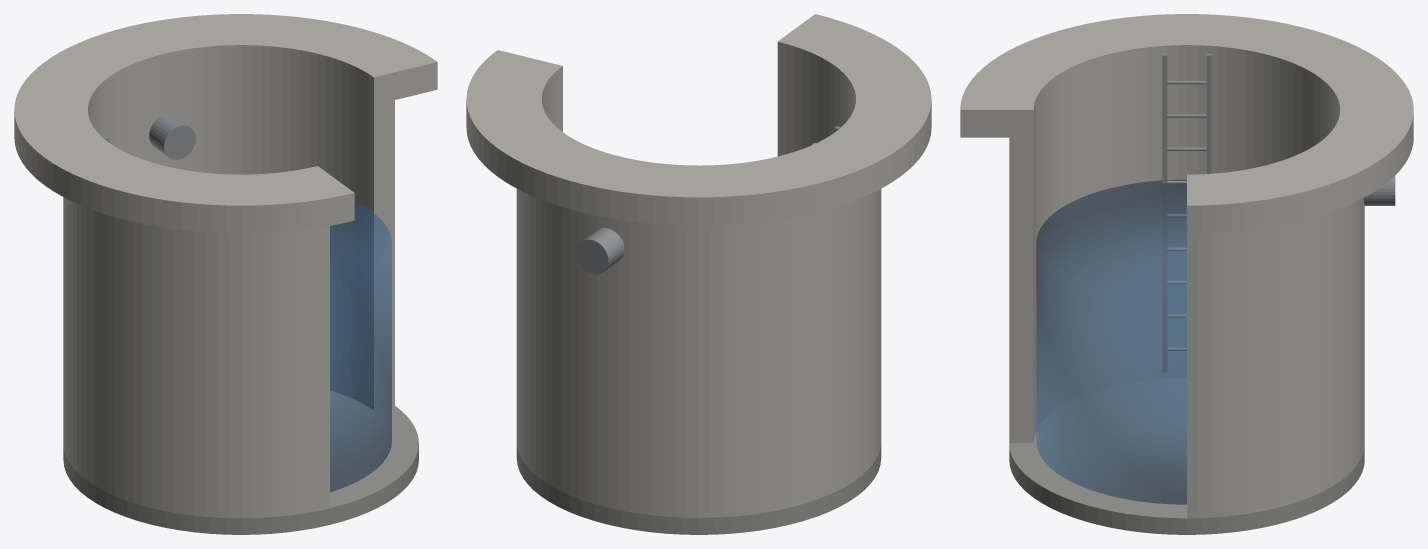
File: wet-well.glb
3 views of the same model, side by side, from view 1: azimuth 30°, elevation 25°; view 2: azimuth 150°, elevation 25°; view 3: azimuth 270°, elevation 25° (orthographic). The views are drawn at different scales.
Parts seen in each view (by area): view 1: Wall, Collar, Fluid, Floor, Inlet; view 2: Wall, Collar, Floor, Inlet; view 3: Wall, Fluid, Collar, Floor, RailA, RailB, Inlet.
Boxes of the visible parts, left/top/right/bottom form: Wall: left=63, top=34, right=394, bottom=518; Collar: left=14, top=14, right=437, bottom=233; Fluid: left=330, top=201, right=391, bottom=491; Floor: left=63, top=391, right=418, bottom=534; Inlet: left=149, top=114, right=195, bottom=159; Wall: left=516, top=33, right=881, bottom=517; Collar: left=466, top=14, right=931, bottom=225; Floor: left=516, top=442, right=881, bottom=534; Inlet: left=576, top=228, right=624, bottom=274; Wall: left=1009, top=35, right=1364, bottom=518; Fluid: left=1036, top=179, right=1186, bottom=504; Collar: left=960, top=14, right=1413, bottom=233; Floor: left=1009, top=378, right=1364, bottom=534; RailA: left=1162, top=53, right=1167, bottom=372; RailB: left=1206, top=53, right=1211, bottom=173; Inlet: left=1363, top=176, right=1395, bottom=205.
Bounding box in the file's own units: 3.7 × 3.15 × 3.7.
